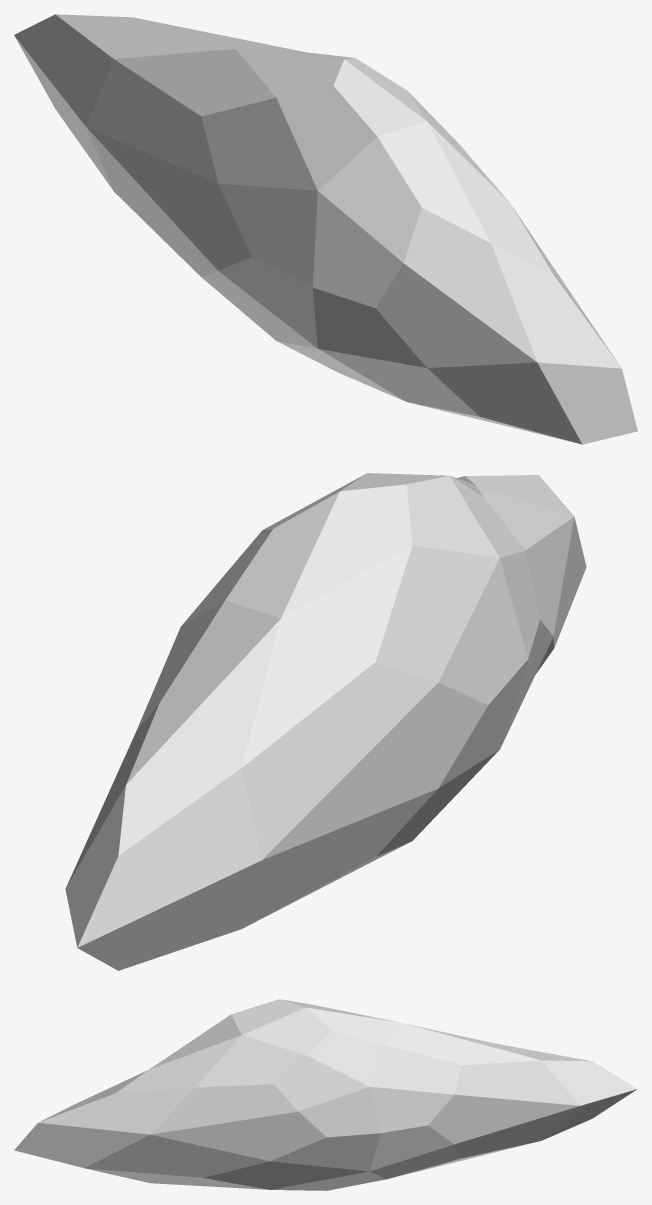
File: Cloud.fbx
3 renders of one model, top to bottom at view 1: azimuth 30°, elevation 25°; view 2: azimuth 150°, elevation 25°; view 3: azimuth 270°, elevation 25°, orthographic. The views are drawn at different scales.
Visible parts, largest first — view 1: Cloud_01; view 2: Cloud_01; view 3: Cloud_01.
Part boxes in pixels (bbox=[...]): Cloud_01: bbox=[14, 14, 637, 444]; Cloud_01: bbox=[65, 473, 586, 970]; Cloud_01: bbox=[14, 999, 637, 1190].
Size of the model in its own units: 157 by 207 by 654.
